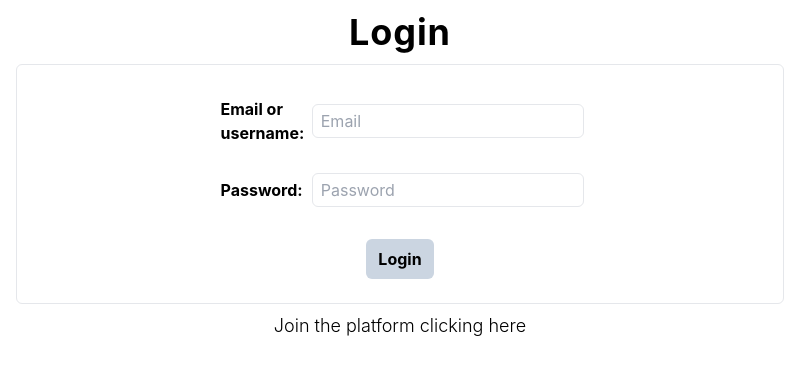
Test case: Login form tests › User cannot be logged
This screenshot has width=801, height=373.
Expected: the number of headings "Login" is 2, [349,12,451,52]; [366,239,434,279]
Expected: the text "Email or username:" is shown, [220,97,308,145]
# Fill form
Type "testing" into the field labelled "Email or username:".
click(448, 121); type("testing")  # box [312,104,584,138]
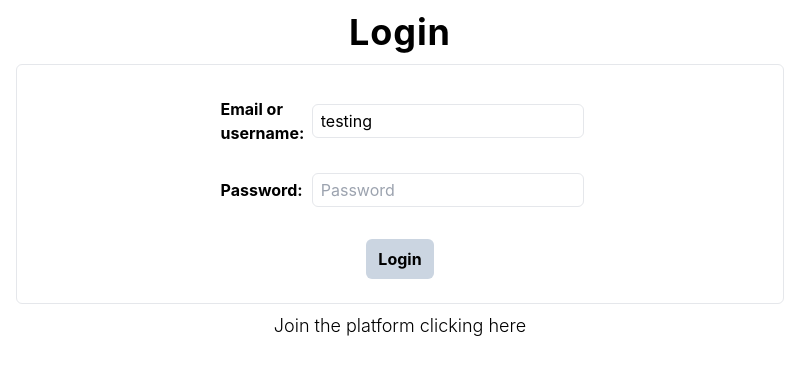
Type "test123456" into the password field labelled "Password:".
click(448, 190); type("test123456")  # box [312,173,584,207]
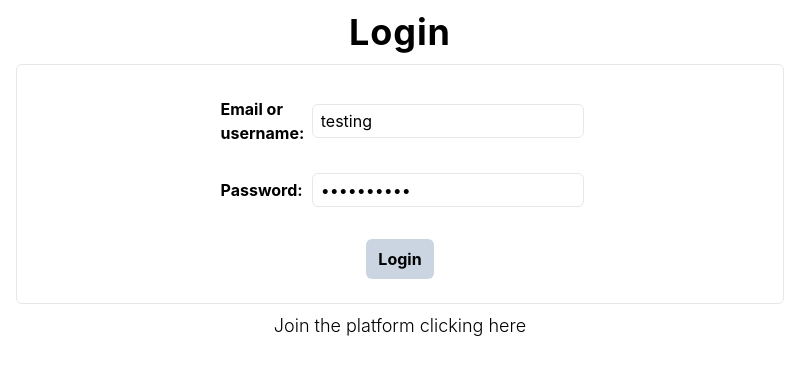
Submit the form from the button "Login", box [366,239,434,279]
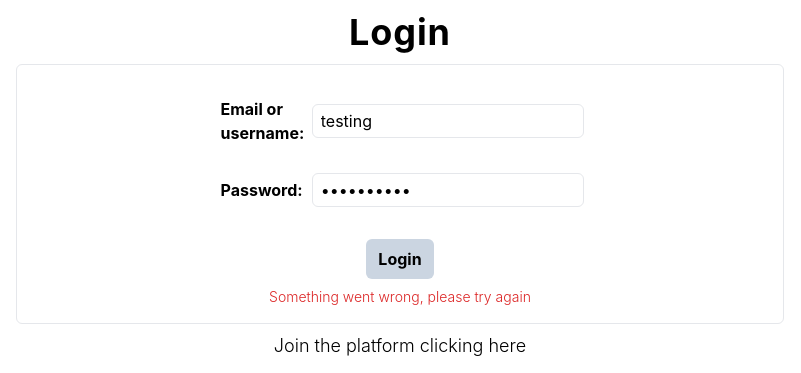
Expected: the heading "Something went wrong, please try again" is shown, [269,287,531,307]
